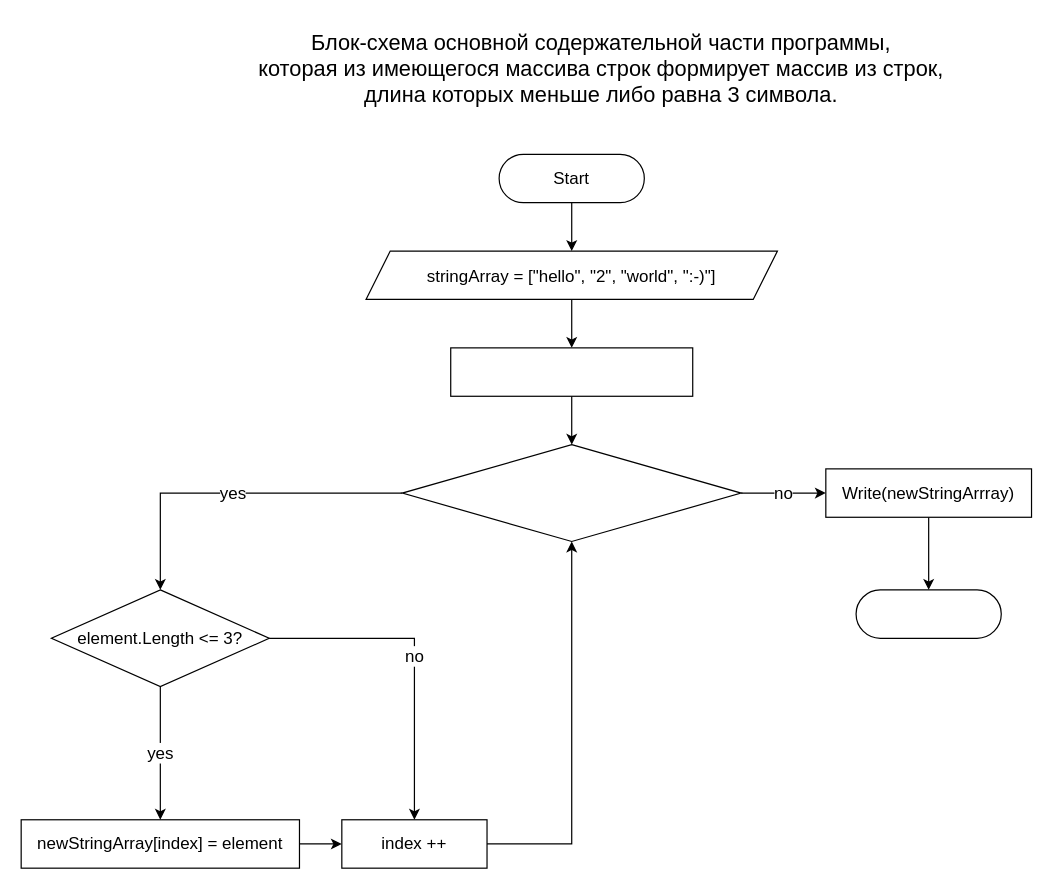
This 1053x889 diagram has some shape labels left out. Here are the shapes that lost their labels. From the top down, the centre of each, then its label:
(x=571, y=371): element = stringArray[index] index = 0
(x=571, y=492): index < stringArray.Length ?
(x=928, y=613): Stop
